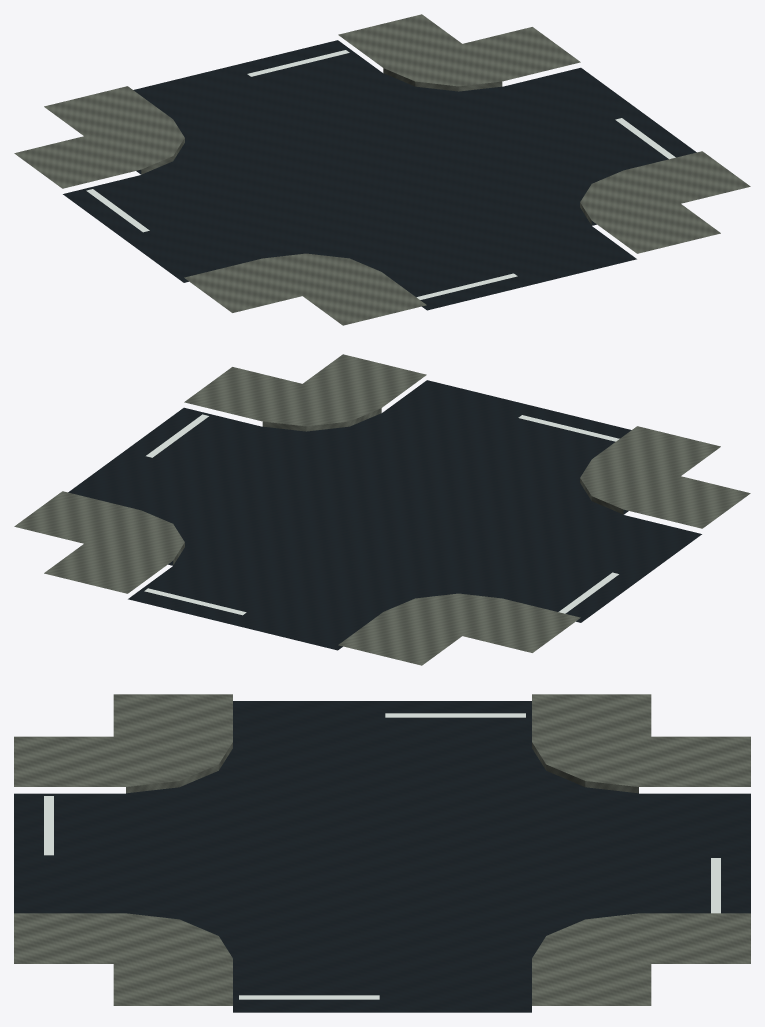
The model's file is junc_cross_2x2_LOD2.glb.
3 renders of one model, top to bottom at view 1: azimuth 30°, elevation 25°; view 2: azimuth 150°, elevation 25°; view 3: azimuth 270°, elevation 25°, orthographic. The views are drawn at different scales.
Parts seen in each view (by area): view 1: junc_cross_2x2__surface.002, junc_cross_2x2__rounded_corner_curb.002, junc_cross_2x2__stop_line_paint.002; view 2: junc_cross_2x2__surface.002, junc_cross_2x2__rounded_corner_curb.002, junc_cross_2x2__stop_line_paint.002; view 3: junc_cross_2x2__surface.002, junc_cross_2x2__rounded_corner_curb.002, junc_cross_2x2__stop_line_paint.002.
Part boxes in pixels (x1=…): junc_cross_2x2__surface.002: x1=63, y1=40, x2=696, y2=310; junc_cross_2x2__rounded_corner_curb.002: x1=14, y1=14, x2=750, y2=325; junc_cross_2x2__stop_line_paint.002: x1=86, y1=50, x2=675, y2=299; junc_cross_2x2__surface.002: x1=68, y1=380, x2=701, y2=650; junc_cross_2x2__rounded_corner_curb.002: x1=14, y1=354, x2=750, y2=665; junc_cross_2x2__stop_line_paint.002: x1=144, y1=414, x2=619, y2=615; junc_cross_2x2__surface.002: x1=14, y1=701, x2=750, y2=1012; junc_cross_2x2__rounded_corner_curb.002: x1=14, y1=694, x2=750, y2=1005; junc_cross_2x2__stop_line_paint.002: x1=44, y1=713, x2=720, y2=999.
Size of the model in its own units: 14.8 by 0.145 by 14.8.
4 materials, 3 textured.
